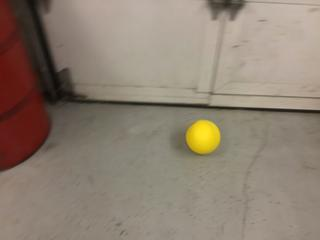power_cell: (181, 116, 226, 162)
